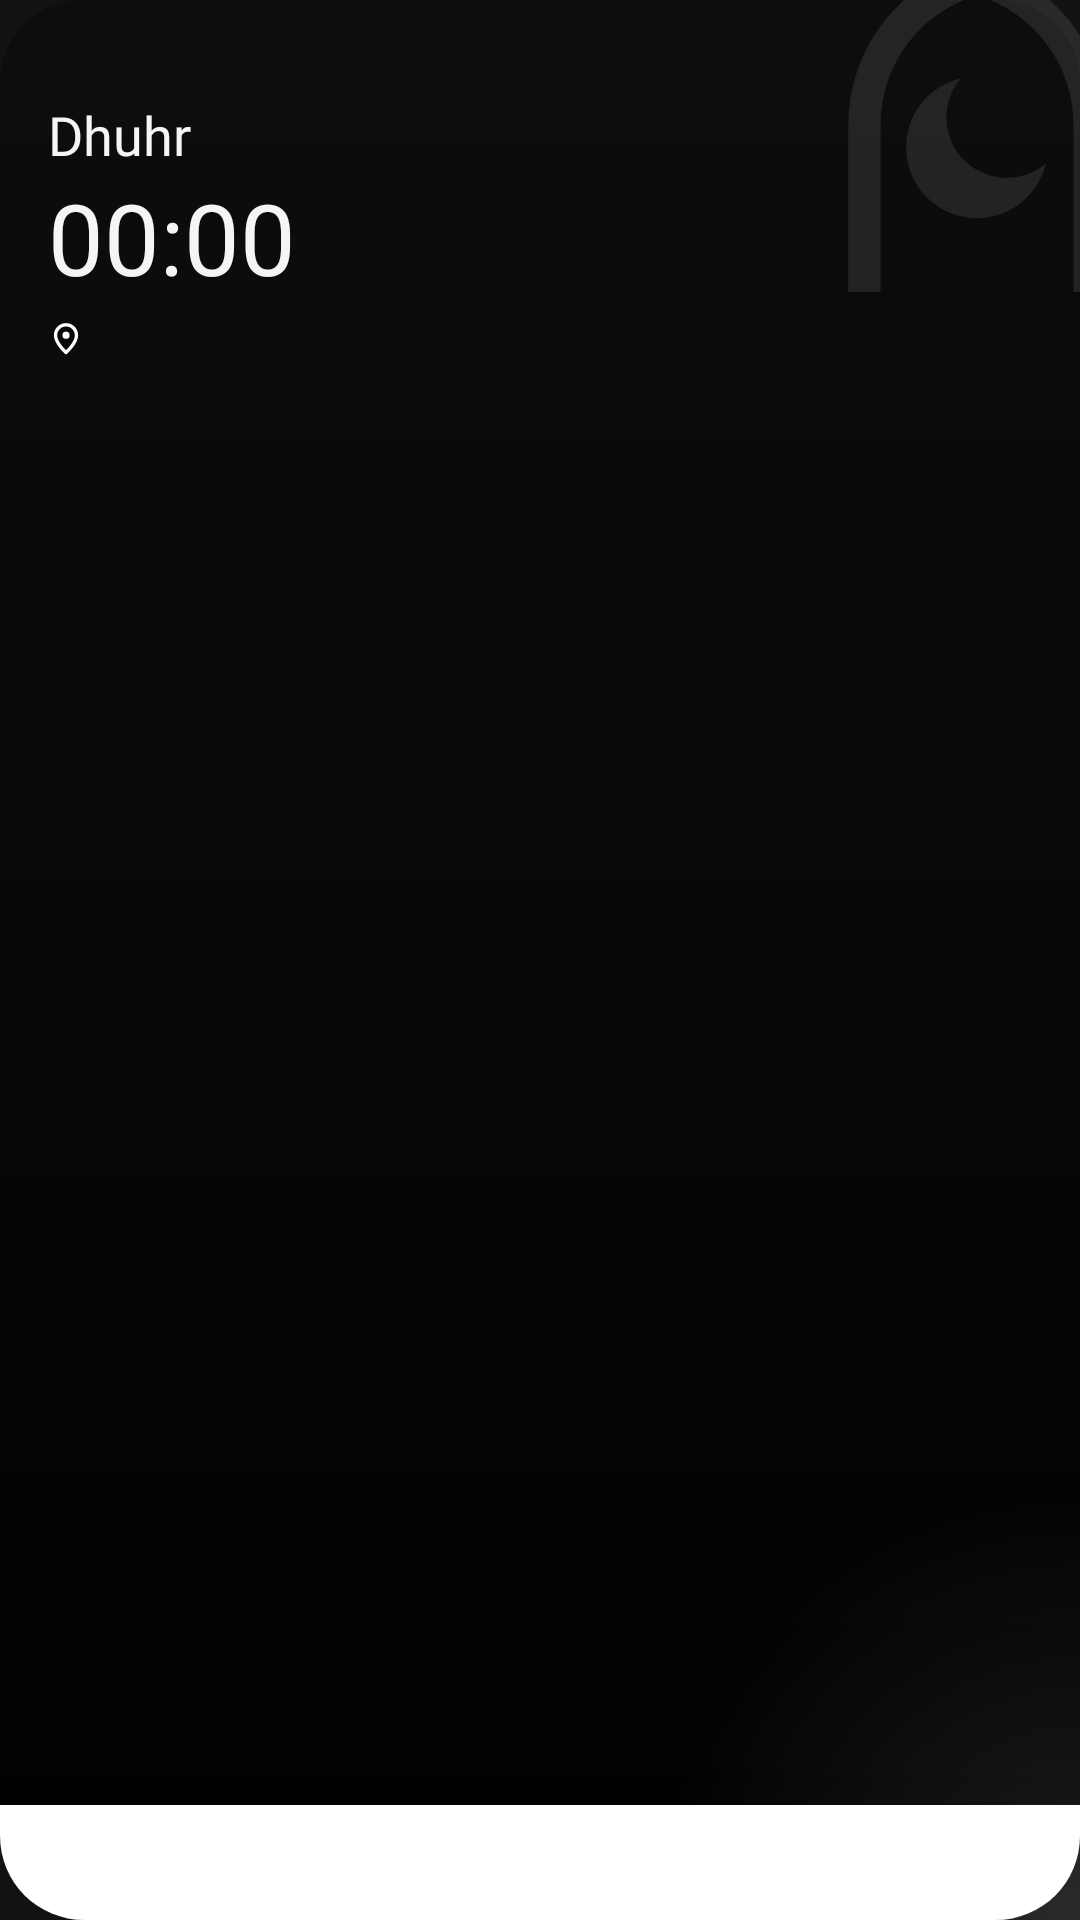

Icon bounding boxes for this 1080*1920 phone screenshot, format region(x1, y1, x2, y2):
widget pin: region(53, 323, 79, 355)
